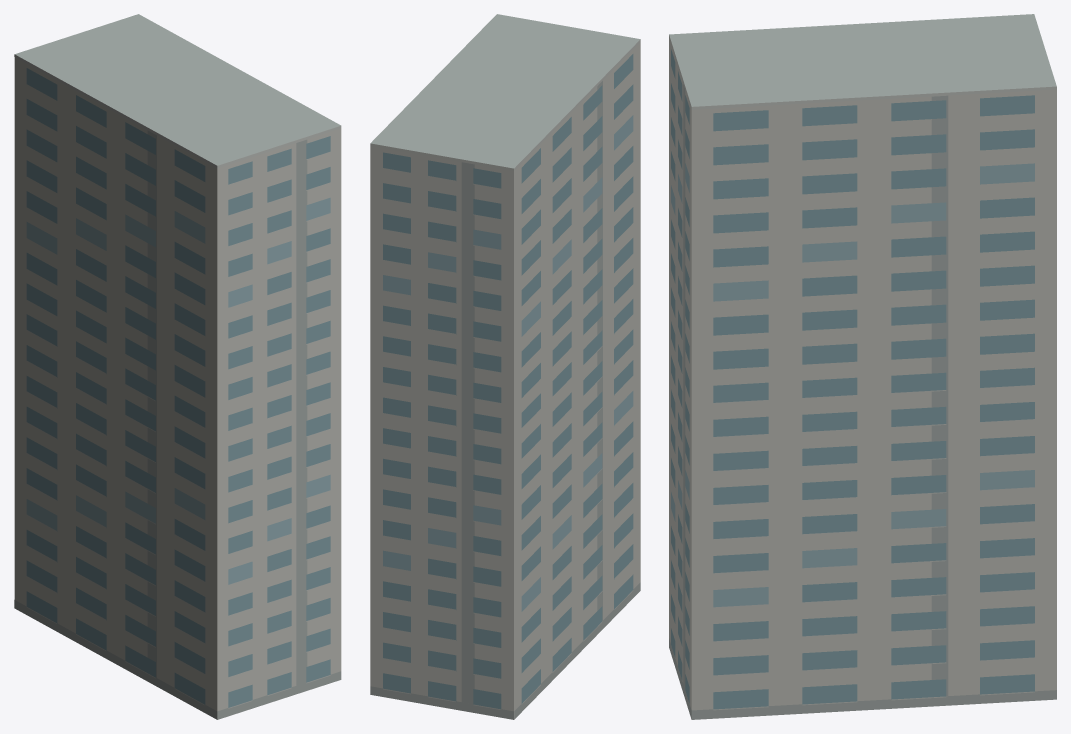
File: residential-e8302100-d1f0-44bc-a5ce-81c130cc9dbd.glb
The picture shows the model from 3 angles, left to right: view 1: azimuth 30°, elevation 25°; view 2: azimuth 150°, elevation 25°; view 3: azimuth 270°, elevation 25°; orthographic projection. The views are drawn at different scales.
Parts seen in each view (by area): view 1: residential-e8302100-d1f0-44bc-a5ce-81c130cc9dbd.tmp; view 2: residential-e8302100-d1f0-44bc-a5ce-81c130cc9dbd.tmp; view 3: residential-e8302100-d1f0-44bc-a5ce-81c130cc9dbd.tmp.
Part boxes in pixels (x1,y1,x2,y2): residential-e8302100-d1f0-44bc-a5ce-81c130cc9dbd.tmp: (14,14,341,719); residential-e8302100-d1f0-44bc-a5ce-81c130cc9dbd.tmp: (370,14,640,719); residential-e8302100-d1f0-44bc-a5ce-81c130cc9dbd.tmp: (669,14,1056,719).
Bounding box in the file's own units: 15.61 × 48 × 27.53.
